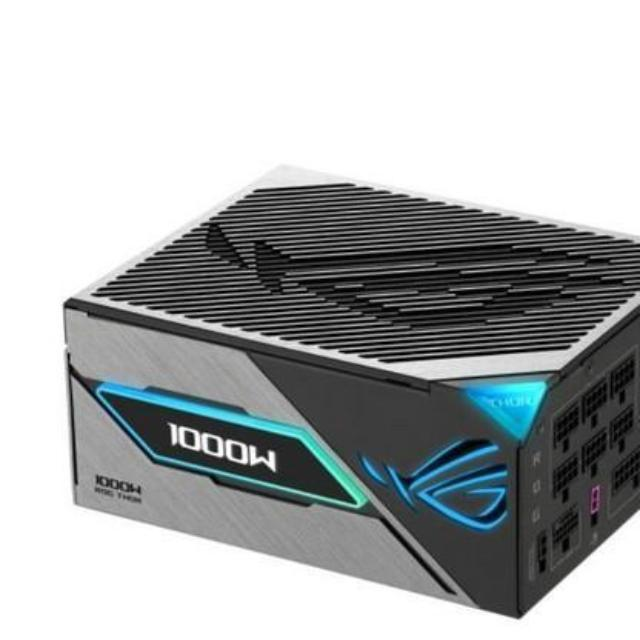PSU: (54, 160, 640, 640)
